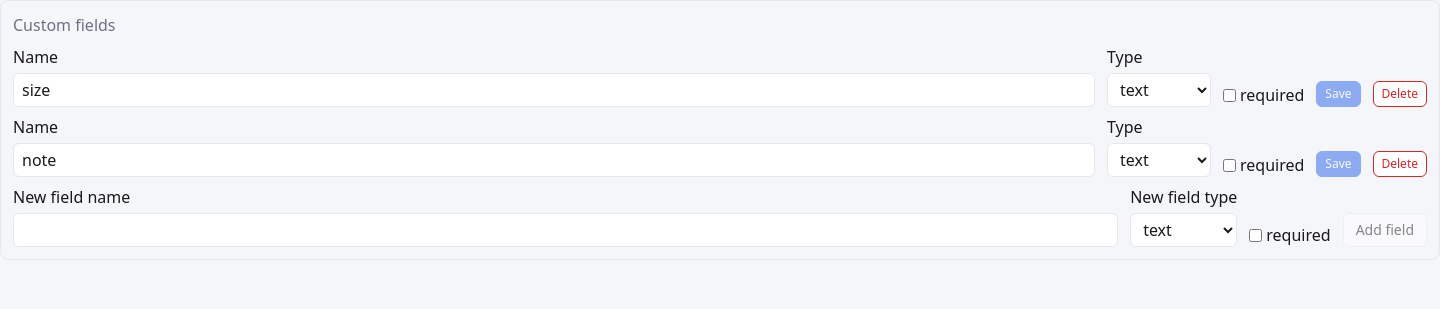
Test: type fields editor › keeps the add-row input when the write fails
This screenshot has width=1440, height=309.
Type "colour" into the field labelled "New field name" at (566, 230), box [13,213,1118,247]
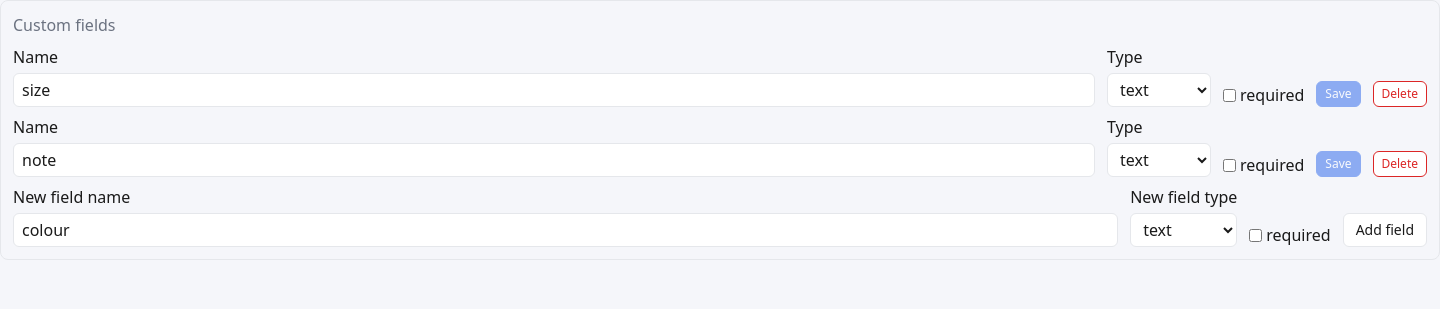
Click the button "Add field" at (1385, 230), box [1343,213,1427,247]
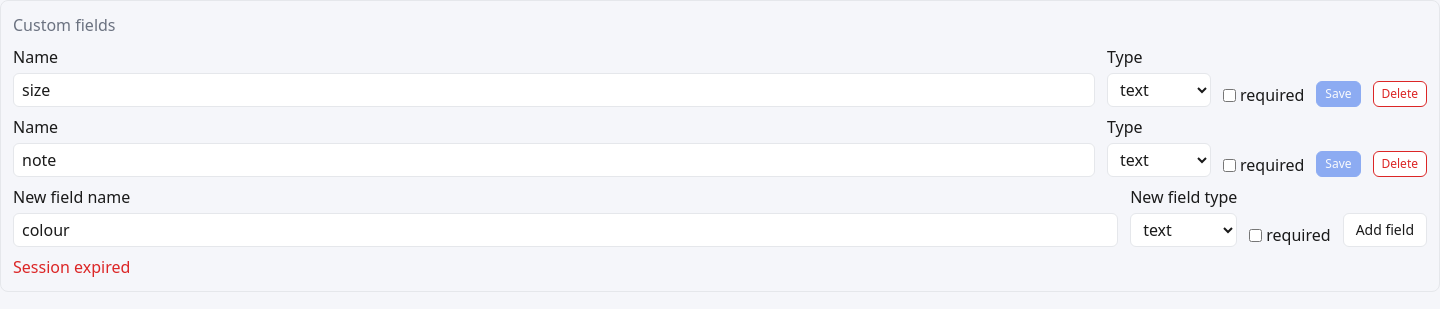
Expected: the message reads "Session expired", [13,256,130,278]
